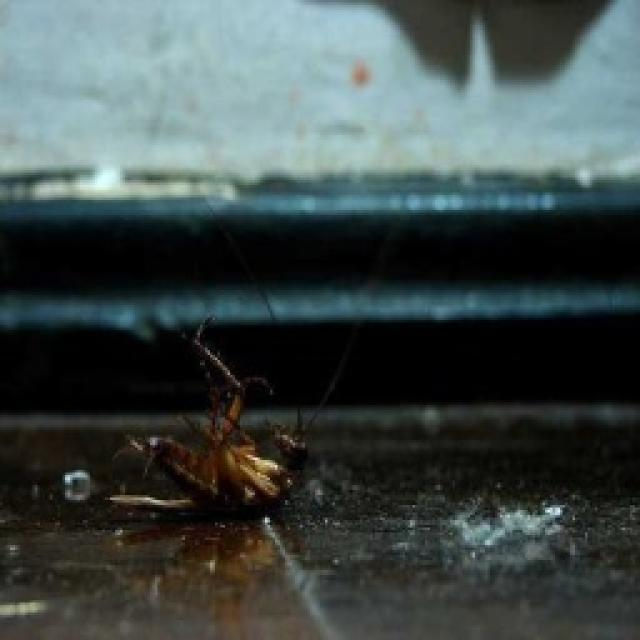cockroach: (107, 314, 317, 523)
